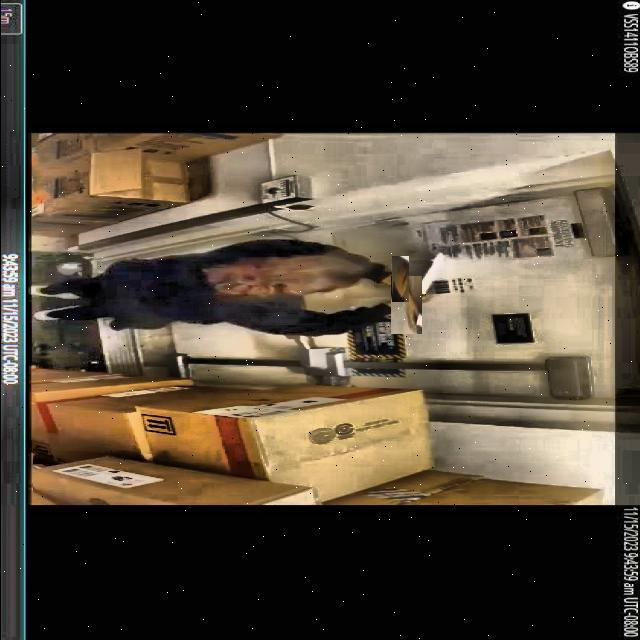not-gloved: (383, 282, 428, 327), (384, 263, 416, 295)
